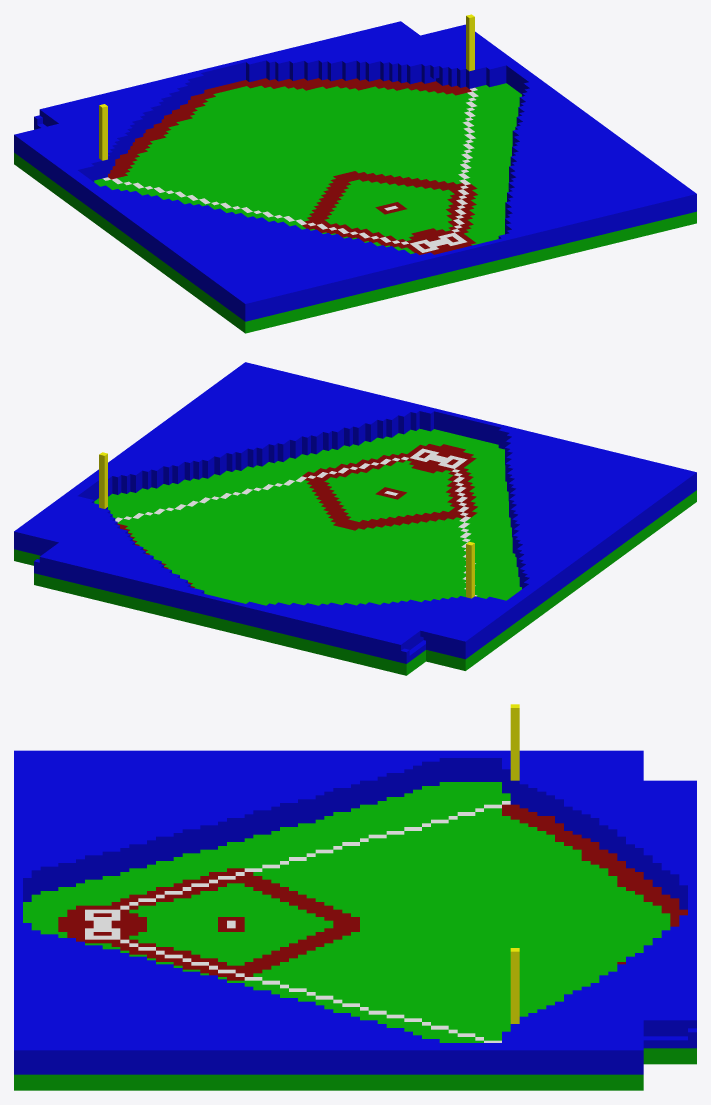
The model's file is BaseBallPark.fbx.
3 views of the same model, one above another, from view 1: azimuth 30°, elevation 25°; view 2: azimuth 150°, elevation 25°; view 3: azimuth 270°, elevation 25° (orthographic). The views are drawn at different scales.
Parts seen in each view (by area): view 1: Untitled; view 2: Untitled; view 3: Untitled.
Boxes of the visible parts, bbox=[...] form: Untitled: bbox=[14, 14, 696, 333]; Untitled: bbox=[14, 362, 696, 675]; Untitled: bbox=[14, 704, 696, 1090].
Size of the model in its own units: 800 by 140 by 770.
